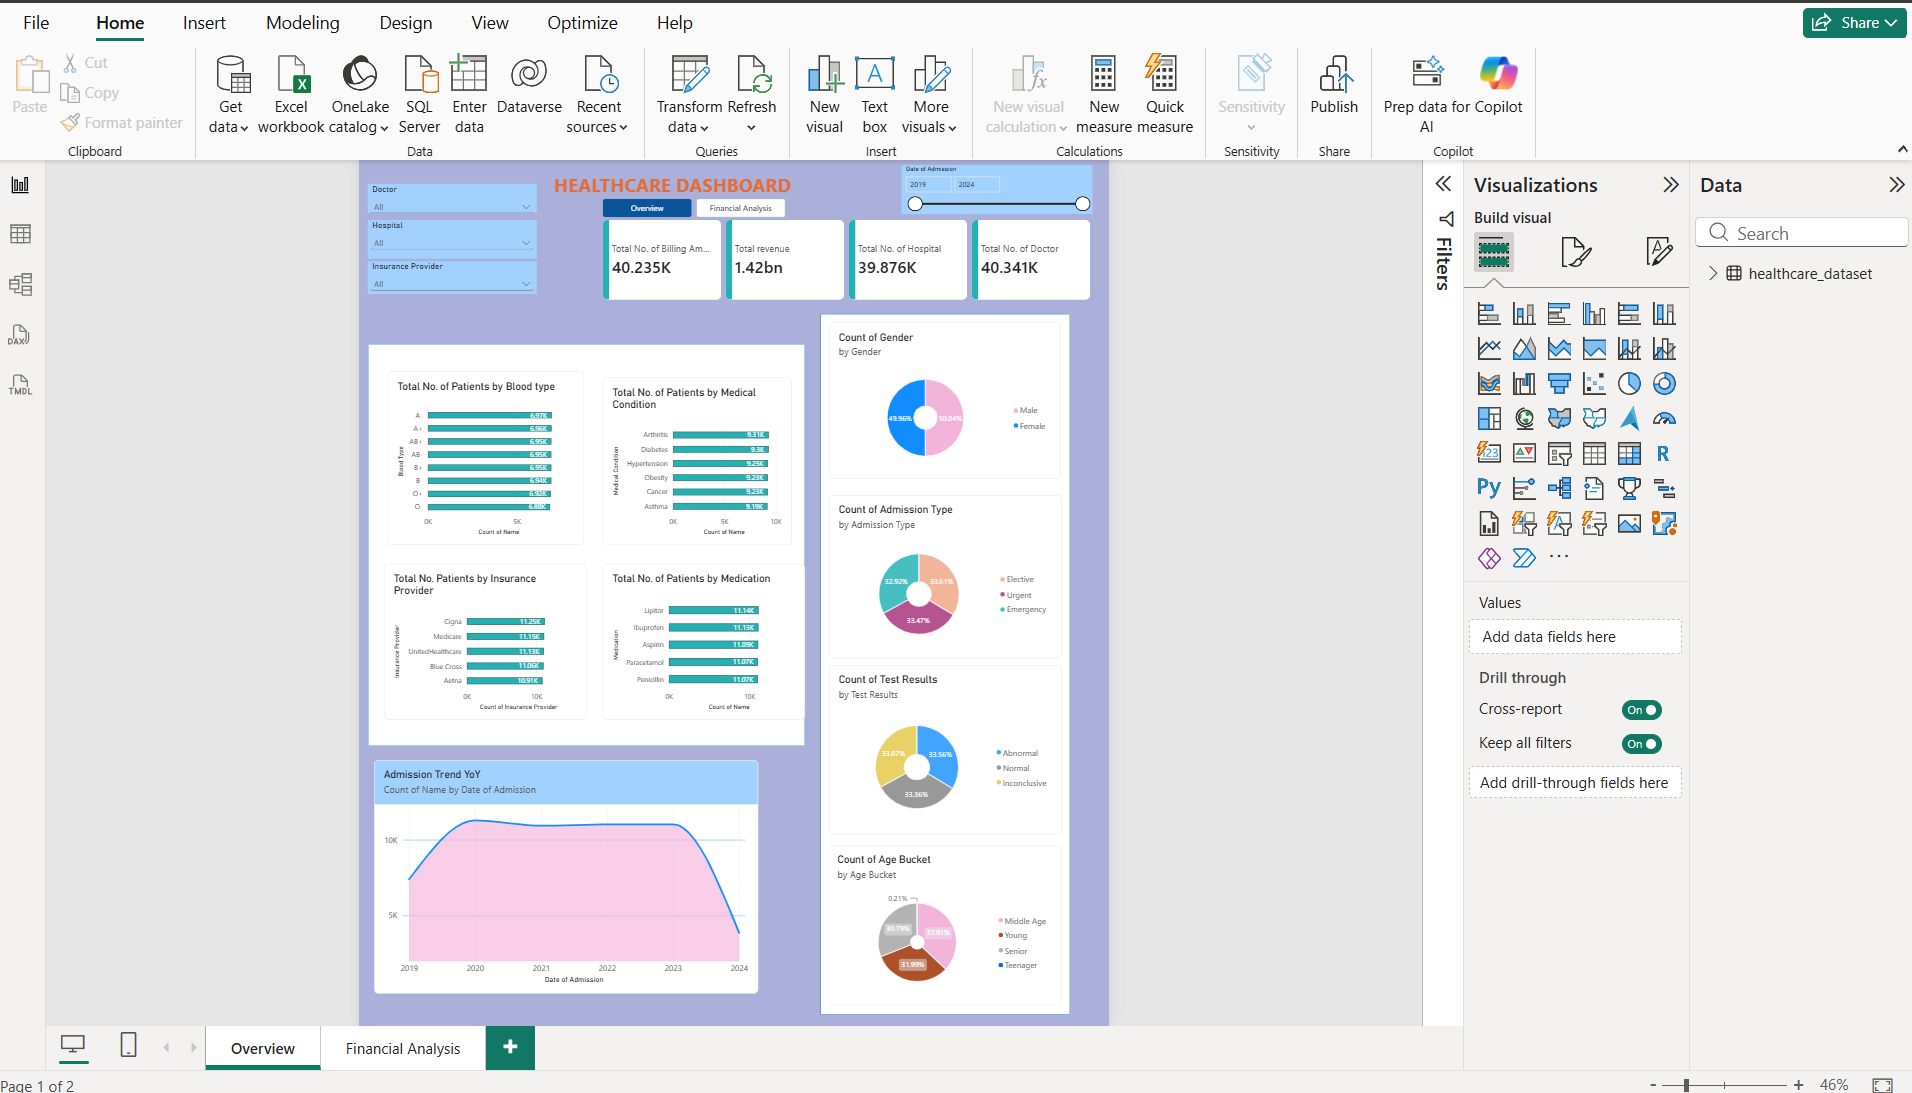

Layout of this report page (visuals, bound fields, positions):
{"tool":"powerbi","page":{"name":"Overview","canvas":[1300,1500],"ordinal":0},"visuals":[{"type":"shape","box":[14.9,317.9,757.8,697.2],"z":0},{"type":"shape","box":[798.5,267.2,433,1214.6],"z":2000},{"type":"cardVisual","fields":{"Data":["Count(healthcare_dataset.Name)","Sum(healthcare_dataset.Billing Amount)","Count(healthcare_dataset.Hospital)","Count(healthcare_dataset.Doctor)"]},"box":[422.4,104.5,847.8,138.8],"z":3000},{"type":"barChart","title":"Total No. of Patients by Blood type","fields":{"Category":["healthcare_dataset.Blood Type"],"Y":["CountNonNull(healthcare_dataset.Name)"]},"box":[49.3,365.7,339.9,301],"z":4000},{"type":"barChart","title":"Total No. of Patients by Medical Condition","fields":{"Category":["healthcare_dataset.Medical Condition"],"Y":["CountNonNull(healthcare_dataset.Name)"]},"box":[422.4,376.1,326.9,290.1],"z":5000},{"type":"barChart","title":"Total No. Patients by Insurance Provider ","fields":{"Category":["healthcare_dataset.Insurance Provider"],"Y":["CountNonNull(healthcare_dataset.Insurance Provider)"]},"box":[43.3,700,350.8,270.6],"z":6000},{"type":"barChart","title":"Total No. of Patients by Medication","fields":{"Category":["healthcare_dataset.Medication"],"Y":["CountNonNull(healthcare_dataset.Name)"]},"box":[422.4,700,350.8,270.6],"z":7000},{"type":"donutChart","fields":{"Category":["healthcare_dataset.Gender"],"Y":["CountNonNull(healthcare_dataset.Gender)"]},"box":[814.9,280.6,401.5,270.1],"z":8000},{"type":"donutChart","fields":{"Category":["healthcare_dataset.Admission Type"],"Y":["CountNonNull(healthcare_dataset.Admission Type)"]},"box":[813.4,580.6,403,283.6],"z":9000},{"type":"donutChart","fields":{"Category":["healthcare_dataset.Test Results"],"Y":["CountNonNull(healthcare_dataset.Test Results)"]},"box":[814.9,874.6,403,294],"z":10000},{"type":"donutChart","fields":{"Category":["healthcare_dataset.Age Bucket"],"Y":["CountNonNull(healthcare_dataset.Age Bucket)"]},"box":[811.9,1186.6,404.5,277.6],"z":11000},{"type":"lineChart","title":"Admission Trend YoY","fields":{"Category":["healthcare_dataset.Date of Admission"],"Y":["CountNonNull(healthcare_dataset.Name)"]},"box":[25.4,1038.8,665.7,404.5],"z":12000},{"type":"slicer","fields":{"Values":["healthcare_dataset.Doctor"]},"box":[14.9,41.8,292.5,50.7],"z":13000},{"type":"slicer","fields":{"Values":["healthcare_dataset.Hospital"]},"box":[14.9,103,292.5,67.2],"z":14000},{"type":"slicer","fields":{"Values":["healthcare_dataset.Insurance Provider"]},"box":[14.9,174.6,292.5,56.7],"z":15000},{"type":"slicer","fields":{"Values":["healthcare_dataset.Date of Admission"]},"box":[940.3,9,329.9,83.6],"z":16000},{"type":"textbox","box":[337.3,22.4,628.4,70.1],"z":17002},{"type":"pageNavigator","box":[422.4,67.2,317.9,32.8],"z":17003}]}

Visuals, with their boxes on the page's 1300x1500 design canvas (x1, y1, x2, y2). These are canvas units, not pixel positions in the 1912x1093 screenshot, which may show the page scaled, cropped or inside an application window:
shape: [15, 318, 773, 1015]
shape: [798, 267, 1232, 1482]
cardVisual - Count(healthcare_dataset.Name) x Sum(healthcare_dataset.Billing Amount): [422, 104, 1270, 243]
"Total No. of Patients by Blood type" barChart: [49, 366, 389, 667]
"Total No. of Patients by Medical Condition" barChart: [422, 376, 749, 666]
"Total No. Patients by Insurance Provider " barChart: [43, 700, 394, 971]
"Total No. of Patients by Medication" barChart: [422, 700, 773, 971]
donutChart - healthcare_dataset.Gender x CountNonNull(healthcare_dataset.Gender): [815, 281, 1216, 551]
donutChart - healthcare_dataset.Admission Type x CountNonNull(healthcare_dataset.Admission Type): [813, 581, 1216, 864]
donutChart - healthcare_dataset.Test Results x CountNonNull(healthcare_dataset.Test Results): [815, 875, 1218, 1169]
donutChart - healthcare_dataset.Age Bucket x CountNonNull(healthcare_dataset.Age Bucket): [812, 1187, 1216, 1464]
"Admission Trend YoY" lineChart: [25, 1039, 691, 1443]
slicer - healthcare_dataset.Doctor: [15, 42, 307, 92]
slicer - healthcare_dataset.Hospital: [15, 103, 307, 170]
slicer - healthcare_dataset.Insurance Provider: [15, 175, 307, 231]
slicer - healthcare_dataset.Date of Admission: [940, 9, 1270, 93]
textbox: [337, 22, 966, 92]
pageNavigator: [422, 67, 740, 100]
